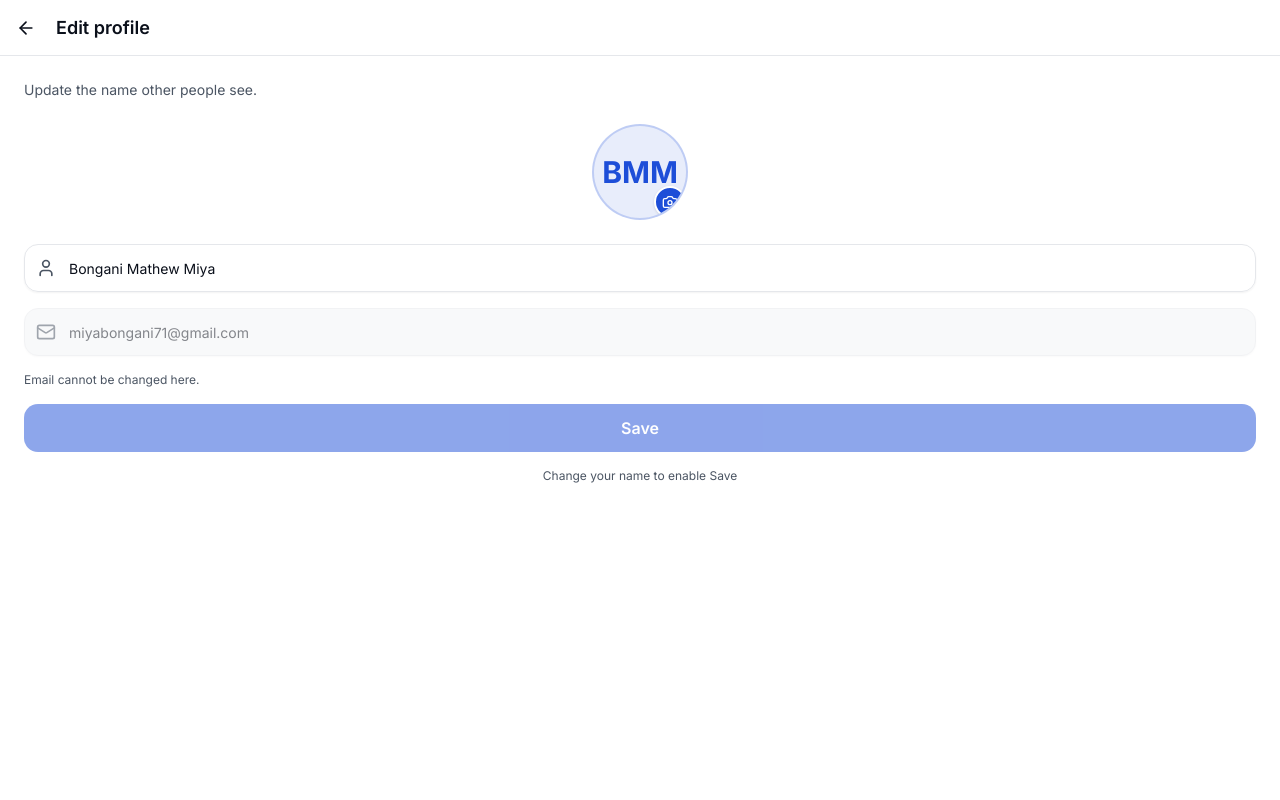
Test: EditProfileScreen › enables Save with valid changed input and calls updateProfile
This screenshot has width=1280, height=800.
Replace the text in the 1st field with placeholder "Full name" with "Bongani M" at x=640, y=268, box [24,244,1256,292]
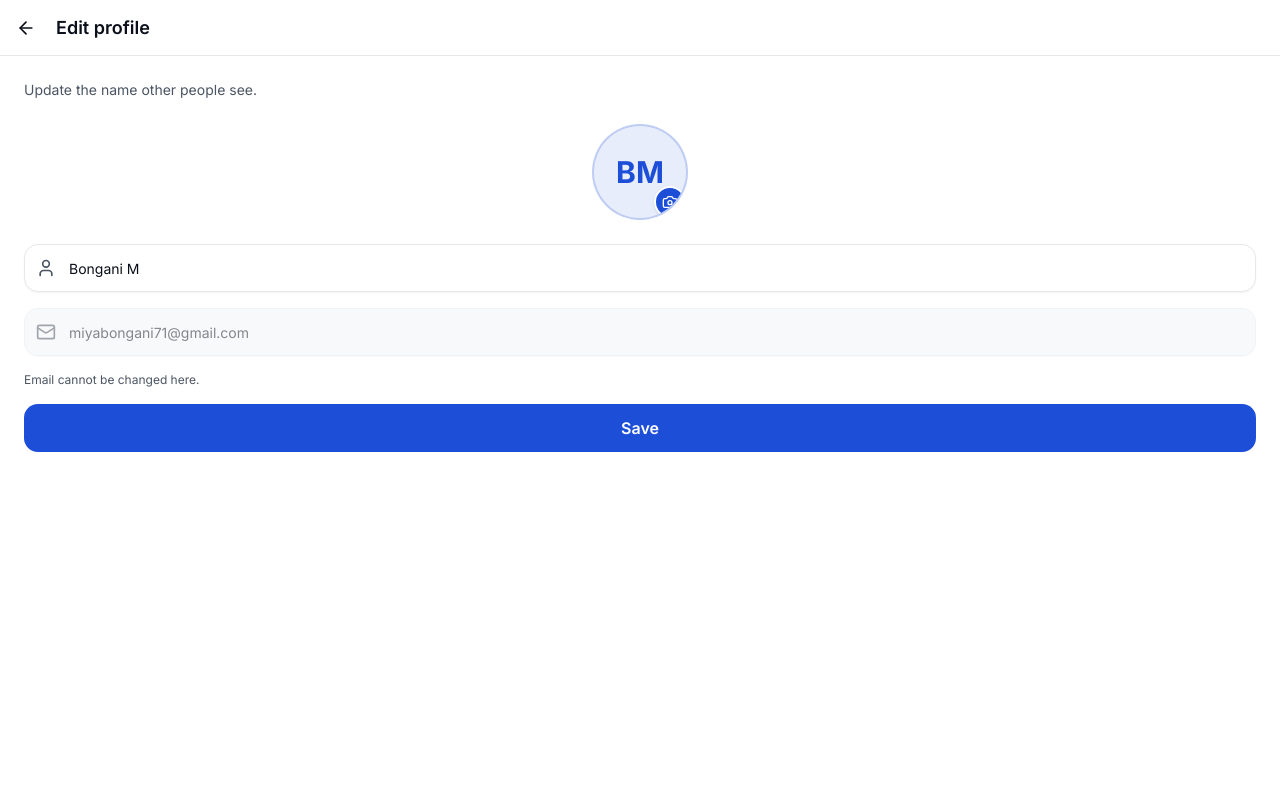
Expected: the button with test id "edit-profile-save" is enabled
Click the button with test id "edit-profile-save" at x=640, y=428, box [24,404,1256,452]
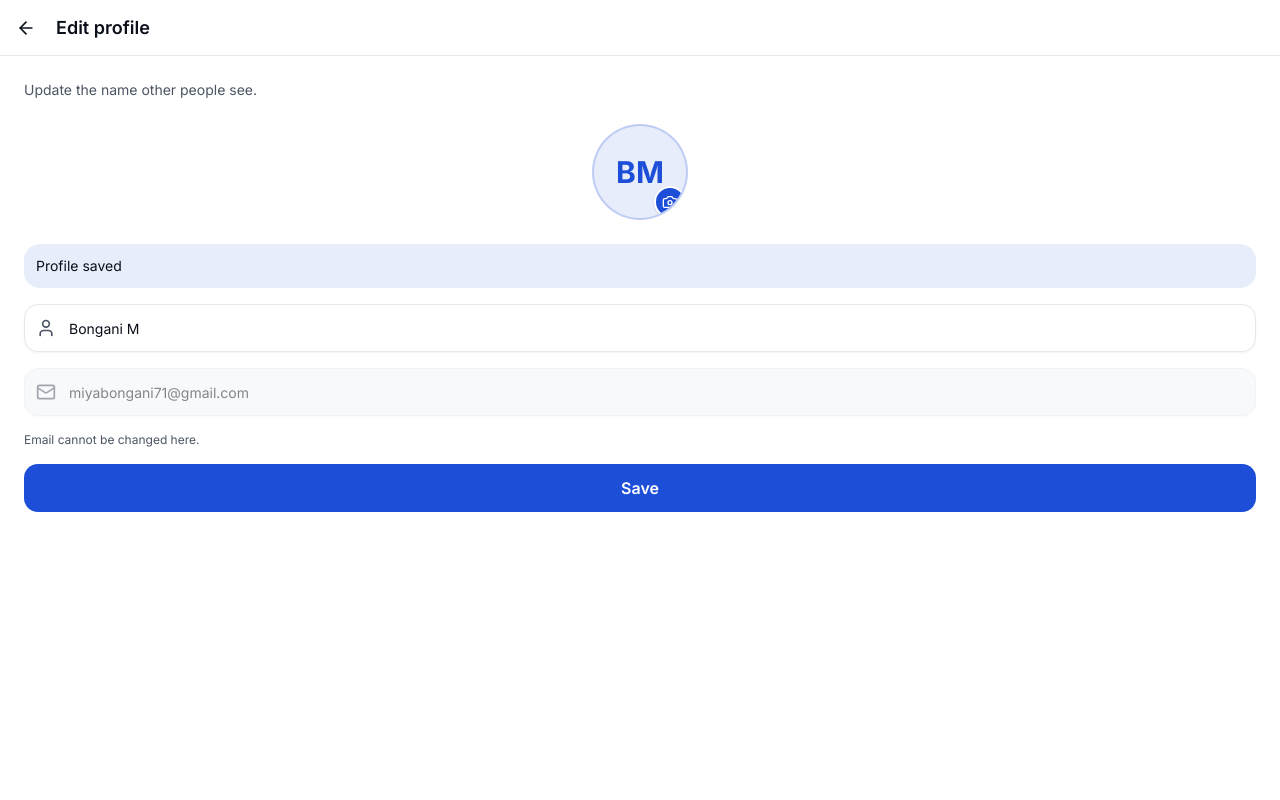
Expected: the text "Profile saved" is shown, [24,244,1256,288]
